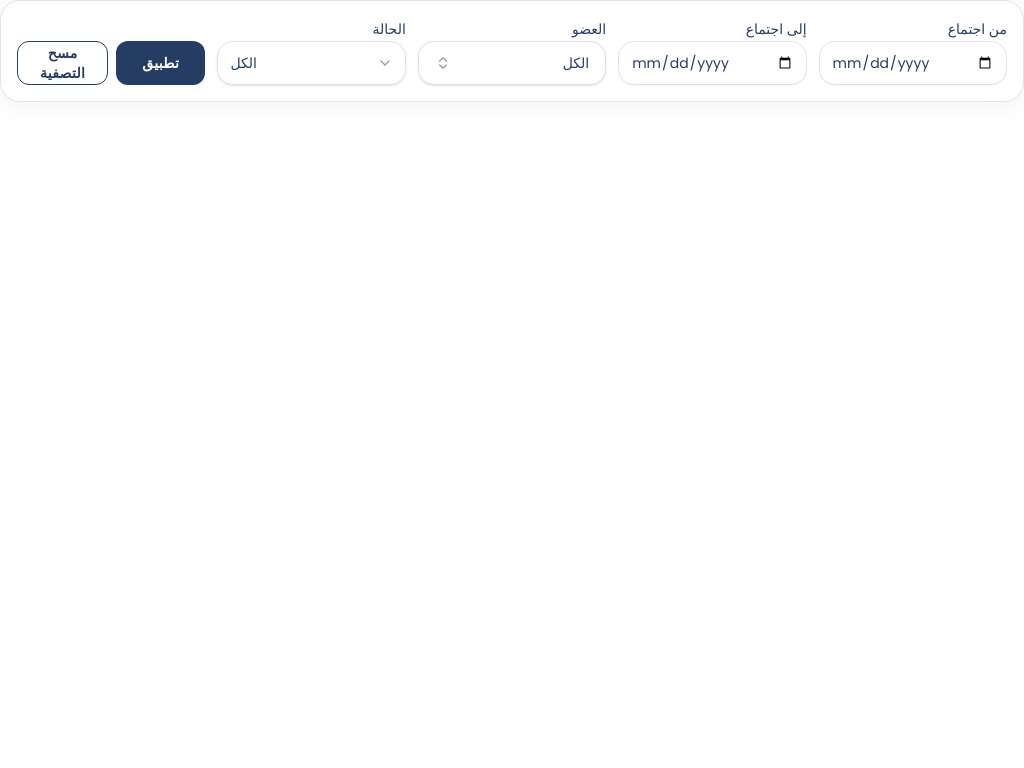
Test case: the filters of the history › opens the list of the members when the combobox is clicked
The image size is (1024, 768).
The member picker (the status is a select too).
Click the dropdown labelled "الكل" below "العضو": (512, 63) [418,41,606,85]
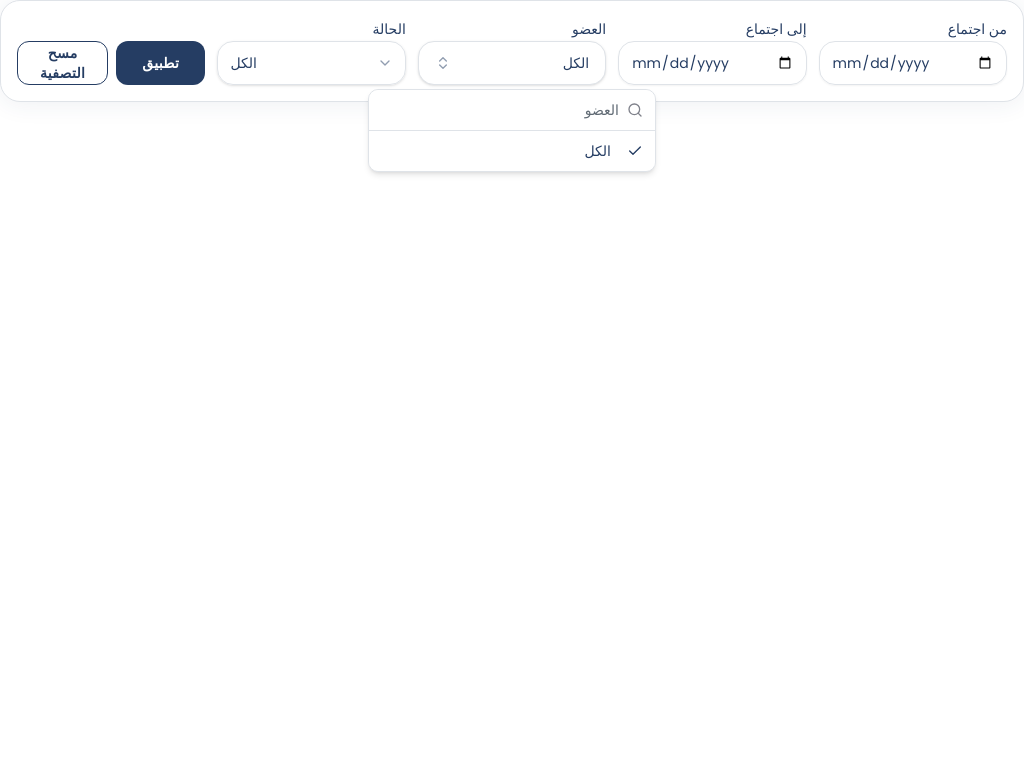
Result: the dropdown with placeholder "العضو" is shown at [381,90,619,130]
